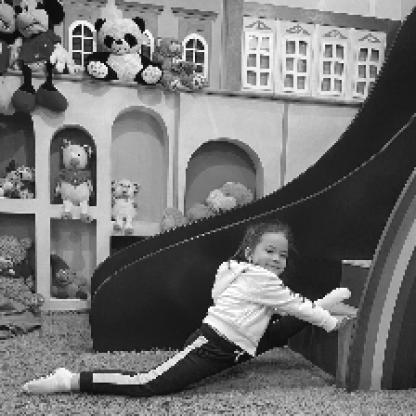child: (23, 224, 352, 396)
